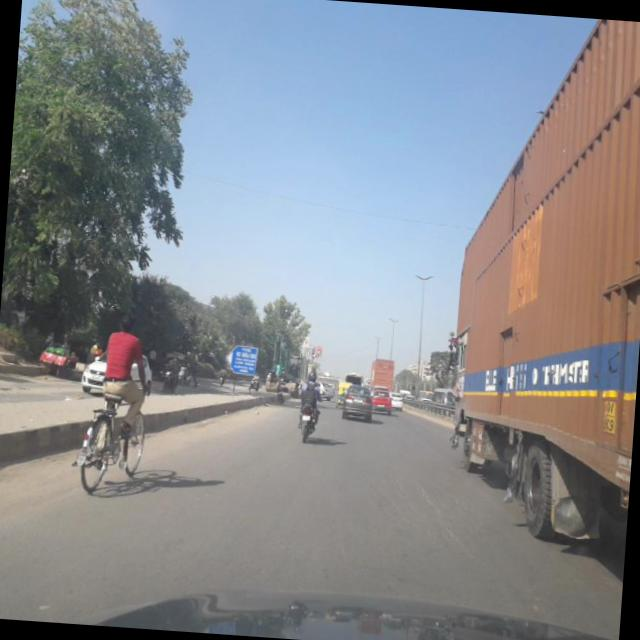pothole: (395, 452, 477, 554)
